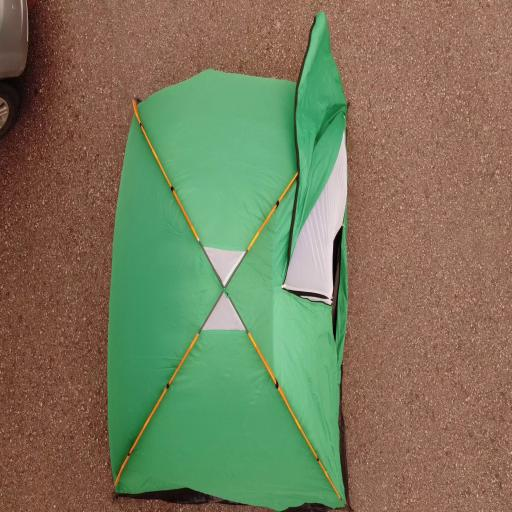tent: (100, 59, 356, 512)
